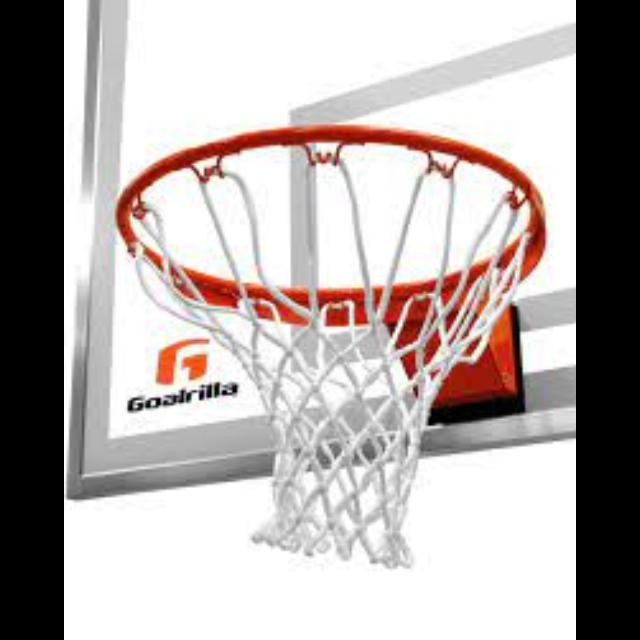rim: (117, 124, 548, 566)
